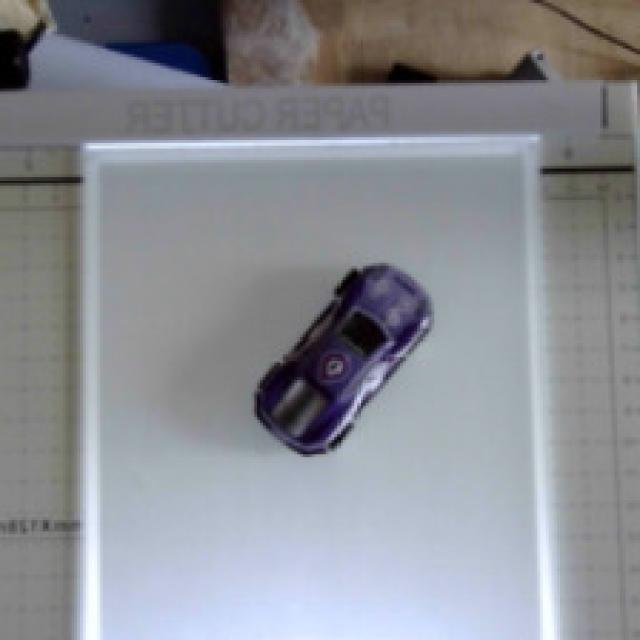Purple Car: (178, 223, 460, 482)
